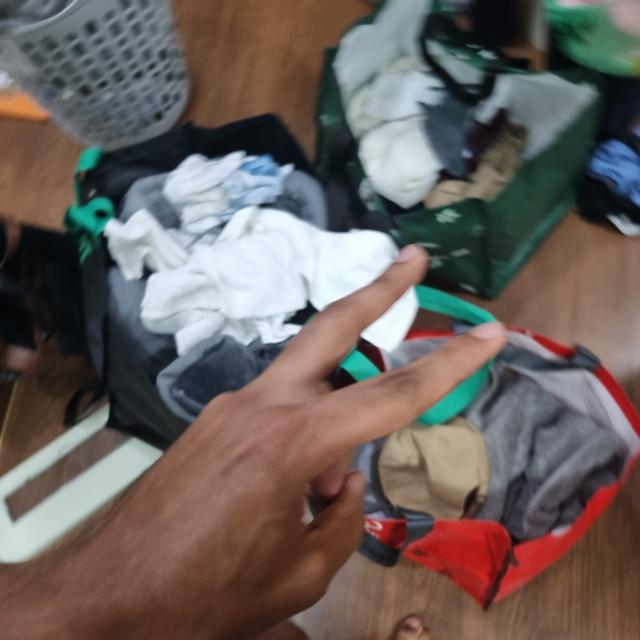Scissors: (55, 249, 508, 639)
